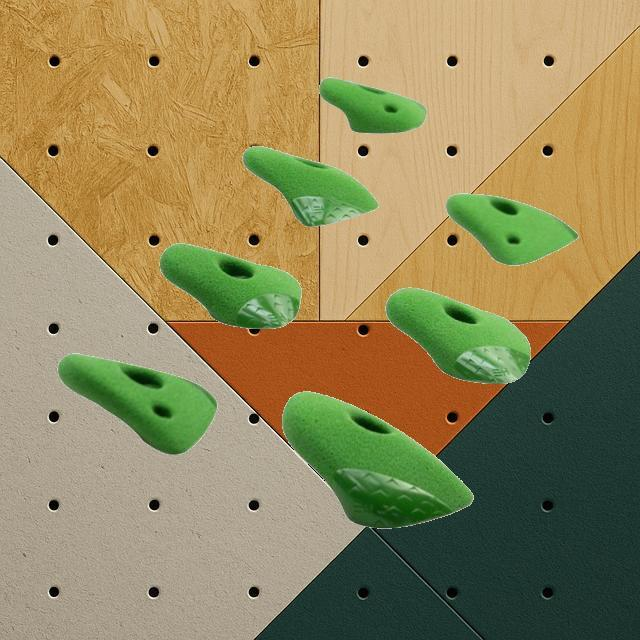Jug: (281, 389, 473, 528), (57, 351, 217, 455), (385, 286, 531, 384), (158, 242, 302, 330), (241, 144, 379, 228), (446, 192, 578, 266), (319, 76, 427, 134)
